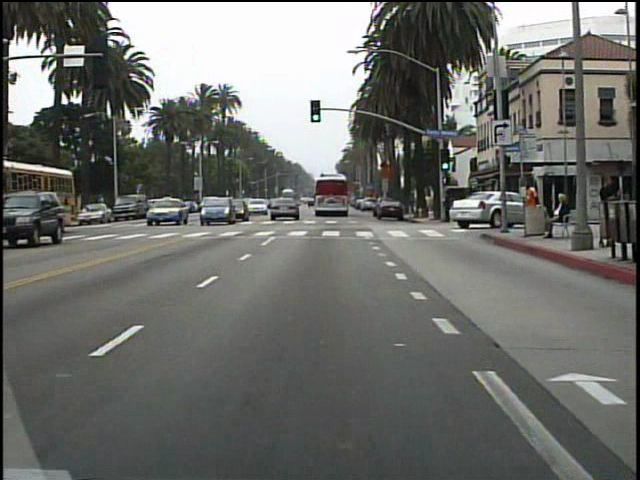person: (593, 172, 621, 250), (543, 186, 569, 240), (521, 178, 540, 235), (438, 186, 453, 226)
